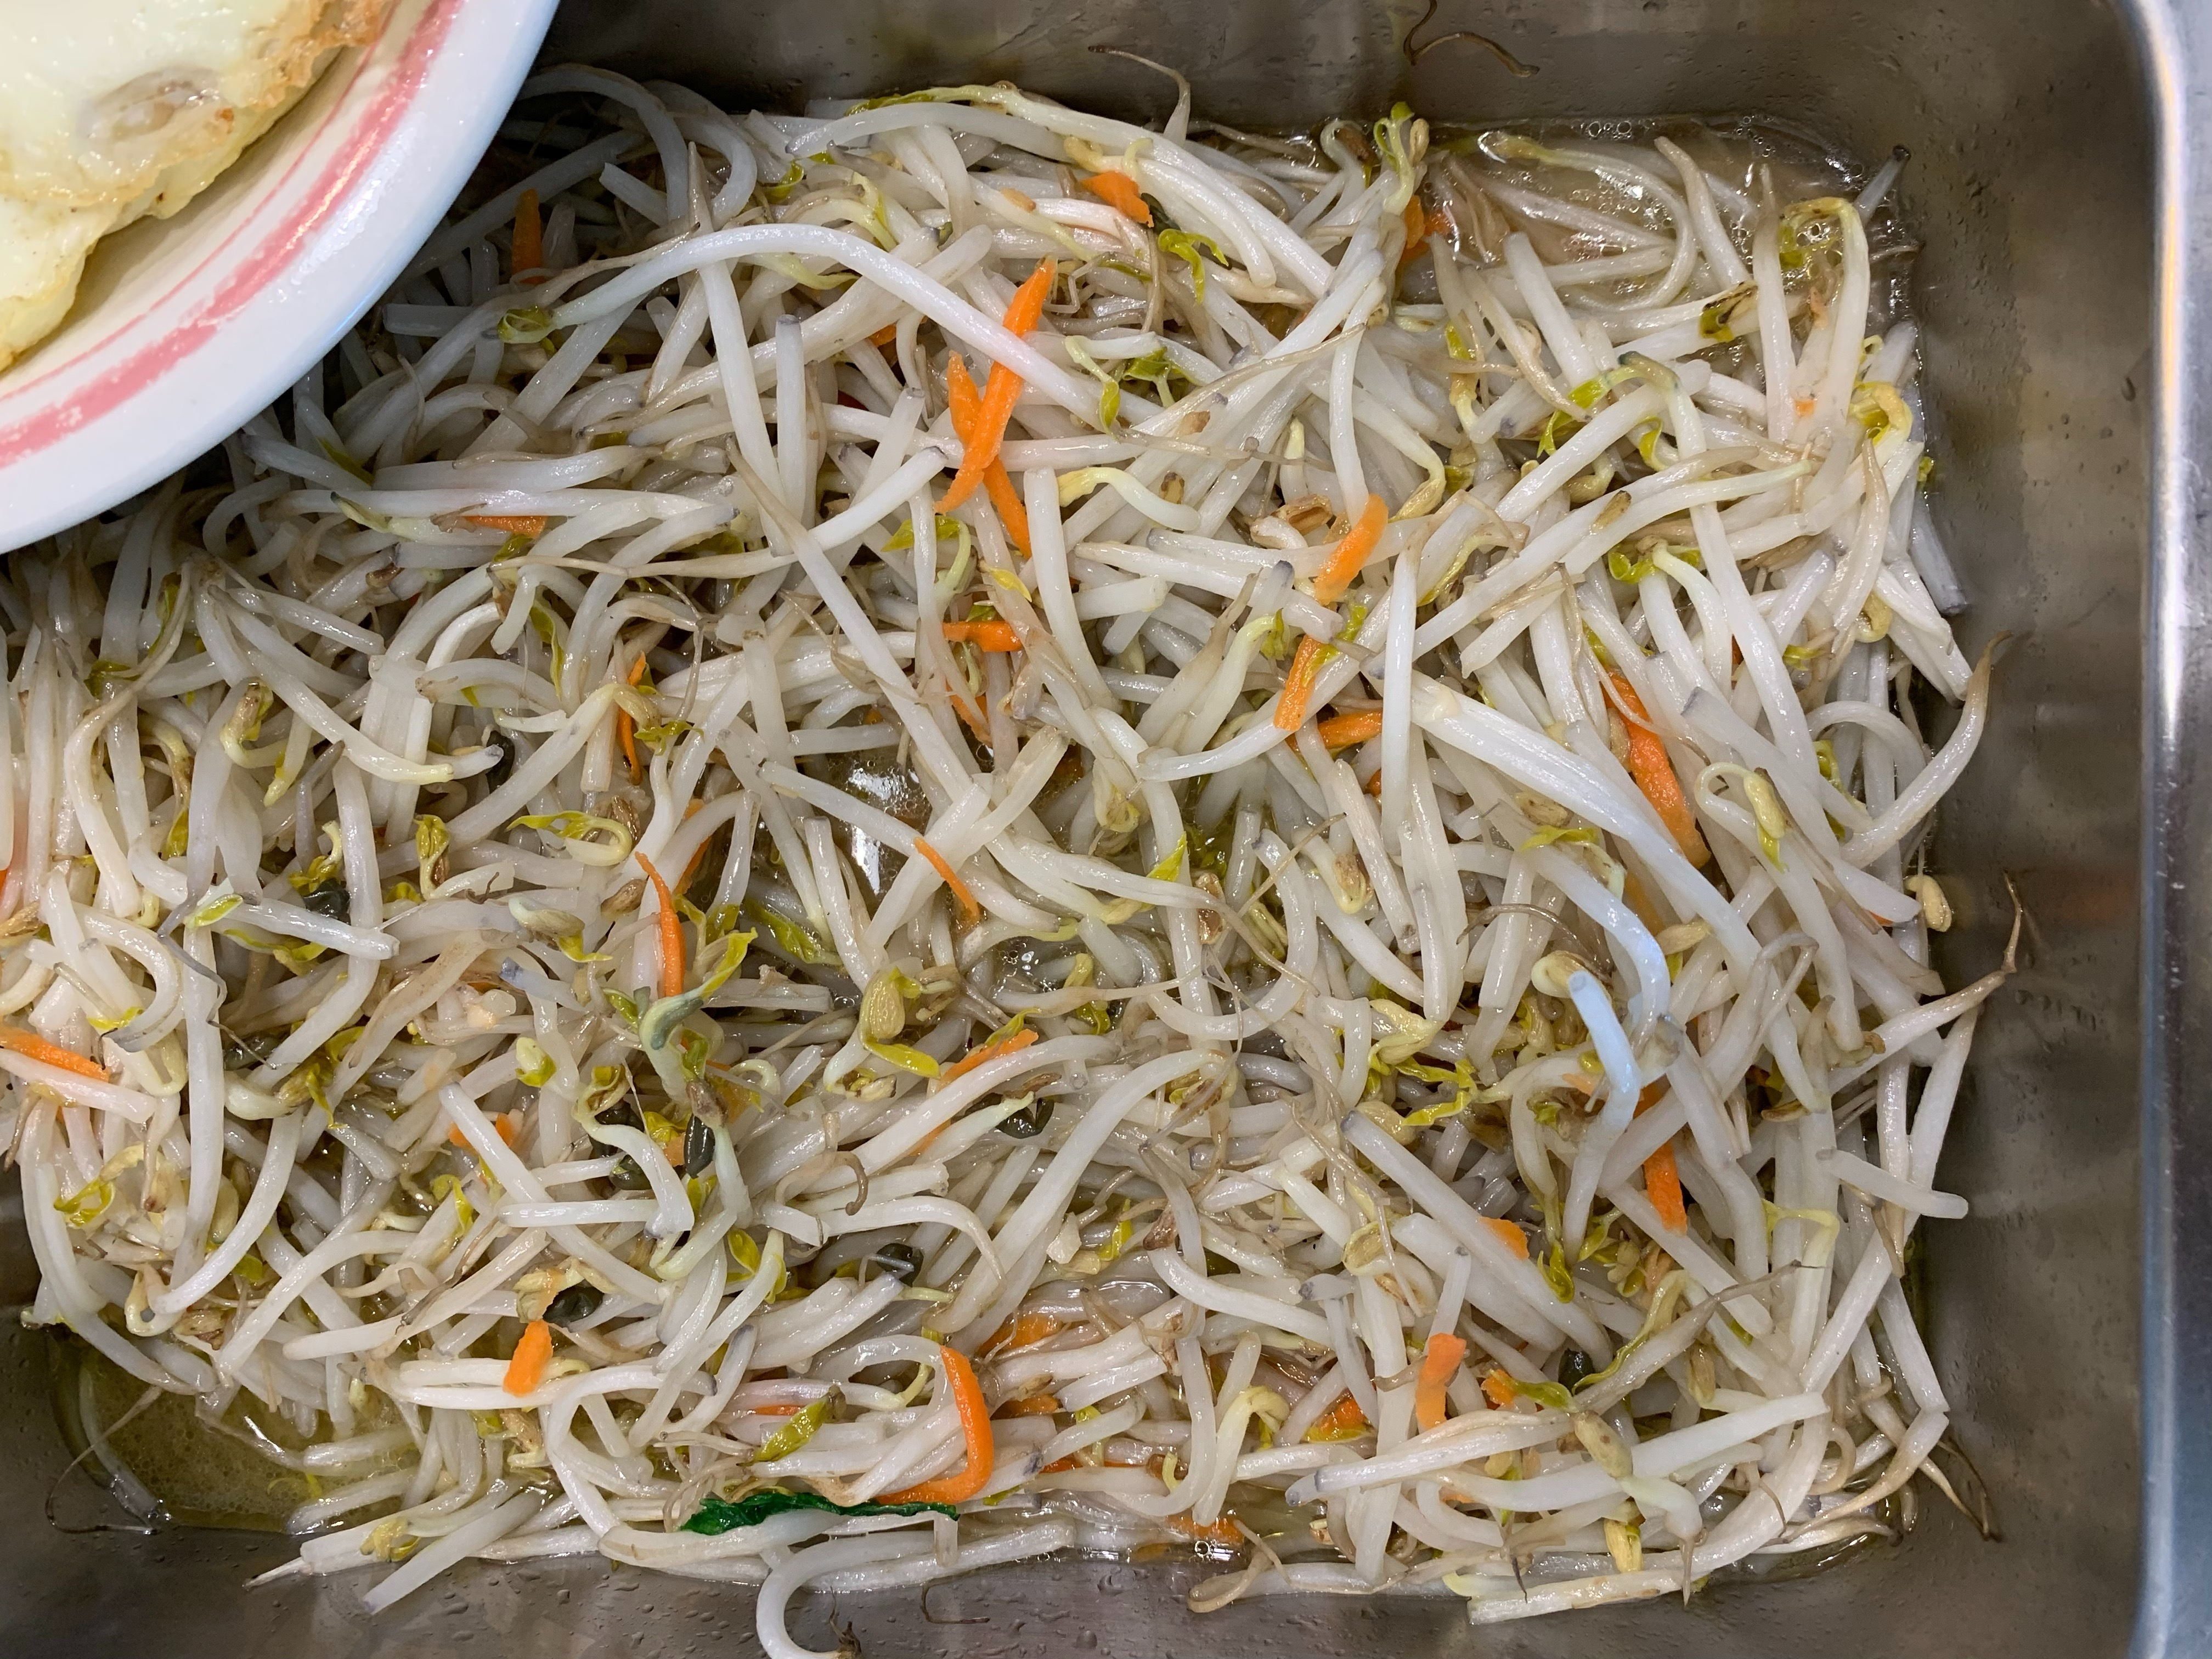mung_bean_sprouts: (113, 176, 1930, 1581)
